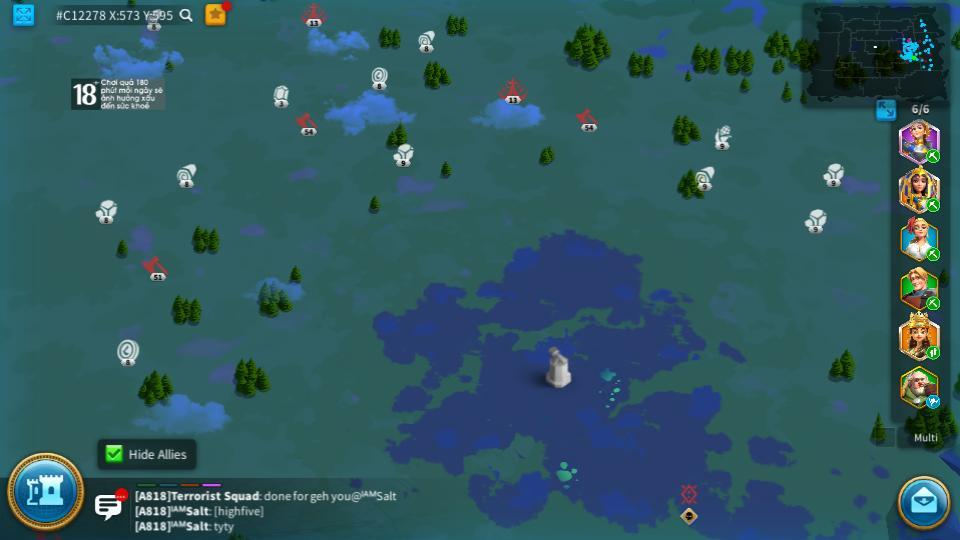gem-z-out: (273, 84, 290, 105)
march_farming: (926, 250, 940, 261)
march_idle: (925, 394, 943, 408)
march_marching: (925, 345, 941, 359), (925, 199, 941, 212), (925, 150, 941, 162), (925, 297, 942, 308)
